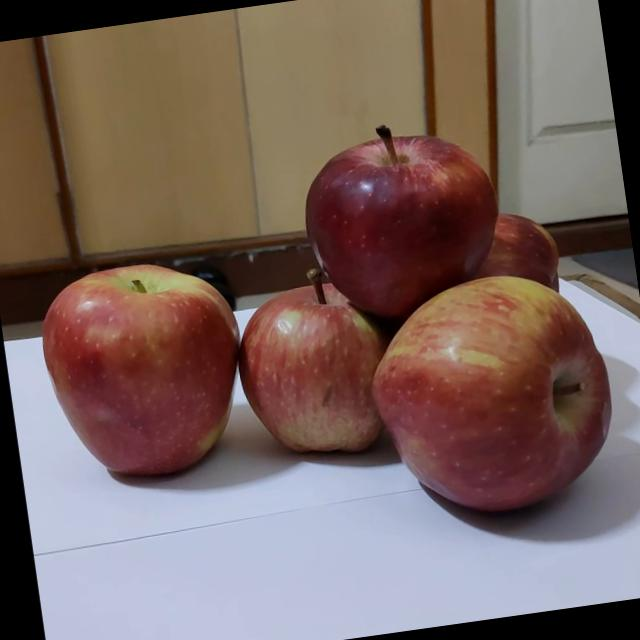apple: (338, 309, 620, 592), (0, 259, 268, 544), (267, 133, 512, 381), (204, 294, 410, 517), (382, 232, 594, 397)
